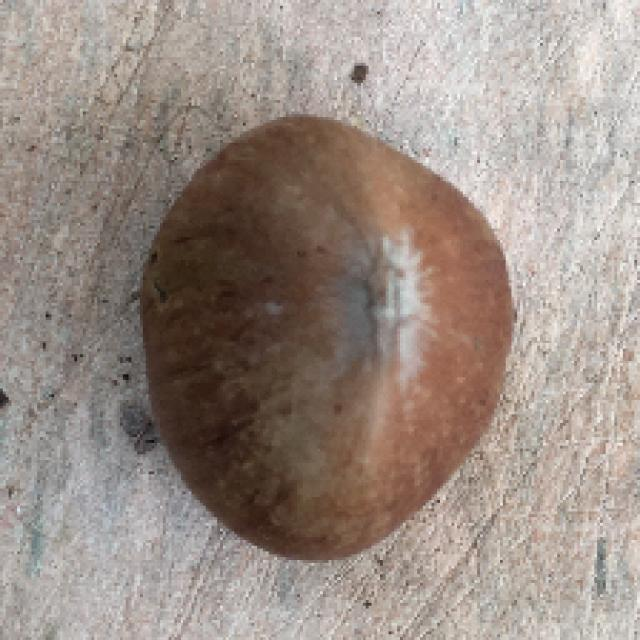damagedHazelnut: (129, 108, 524, 560)
